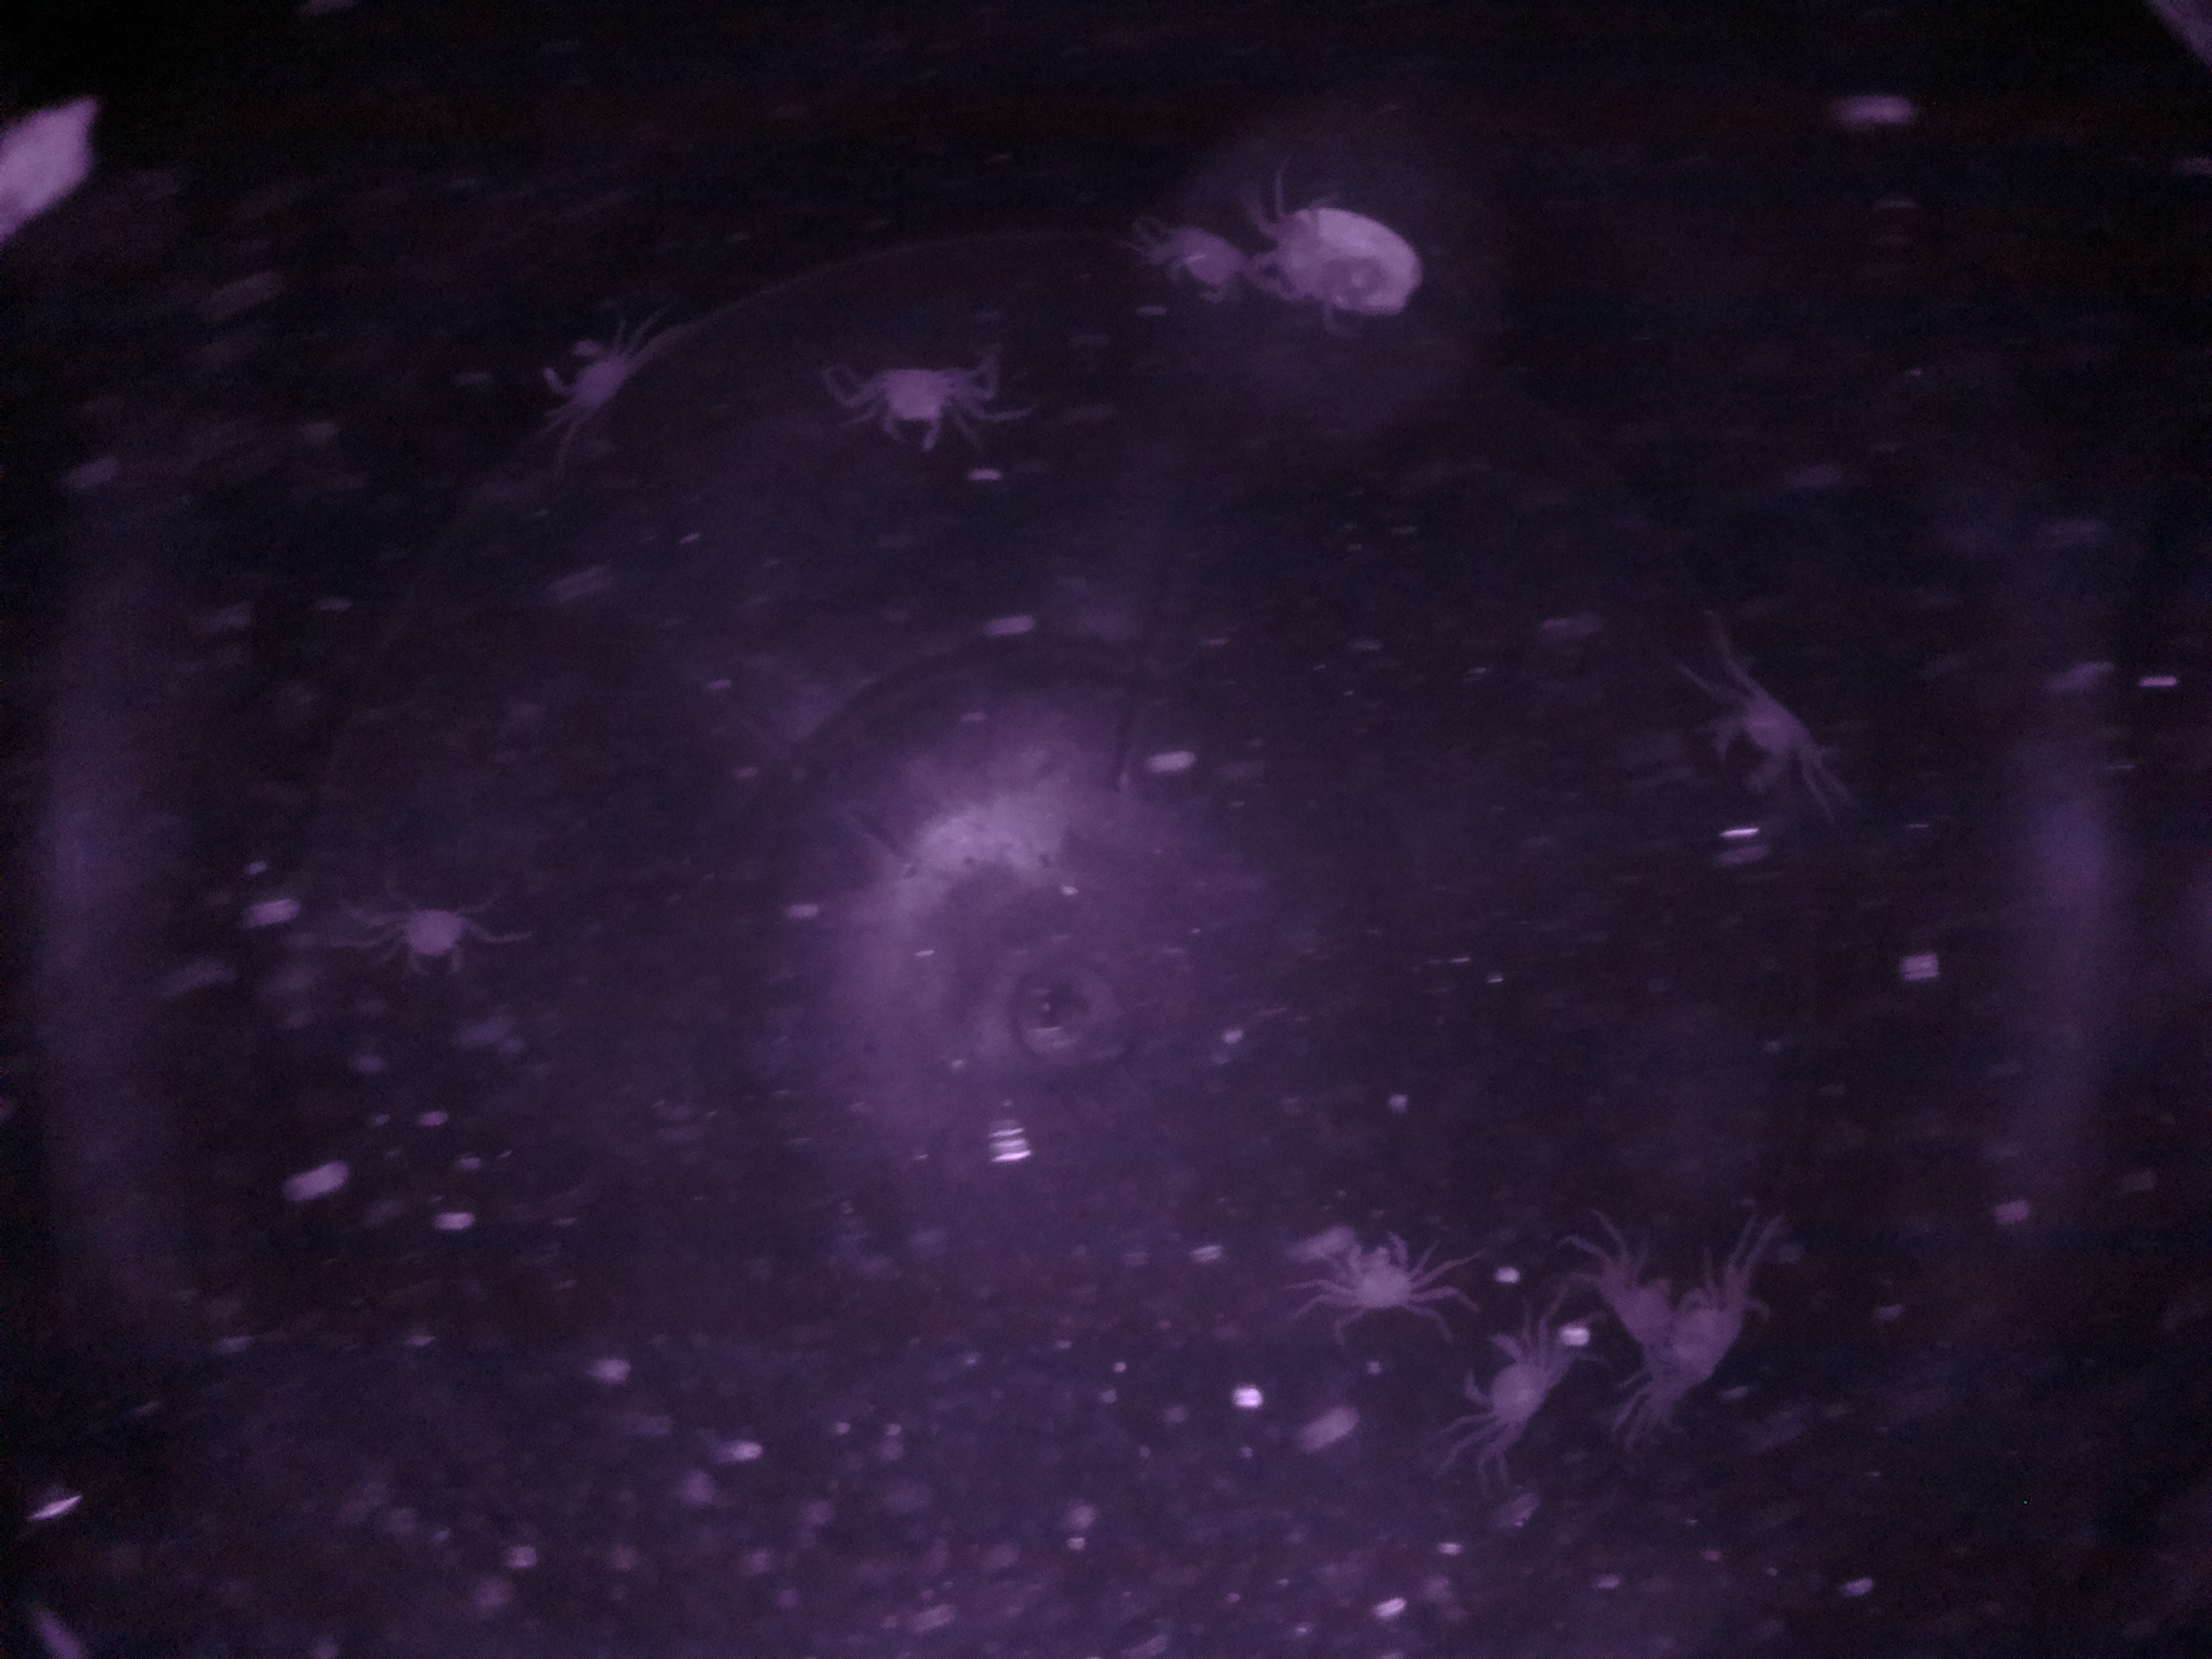Crab: (1696, 664, 1822, 810), (1446, 1317, 1568, 1445), (860, 340, 975, 471), (521, 326, 665, 427), (1320, 1208, 1430, 1337)
